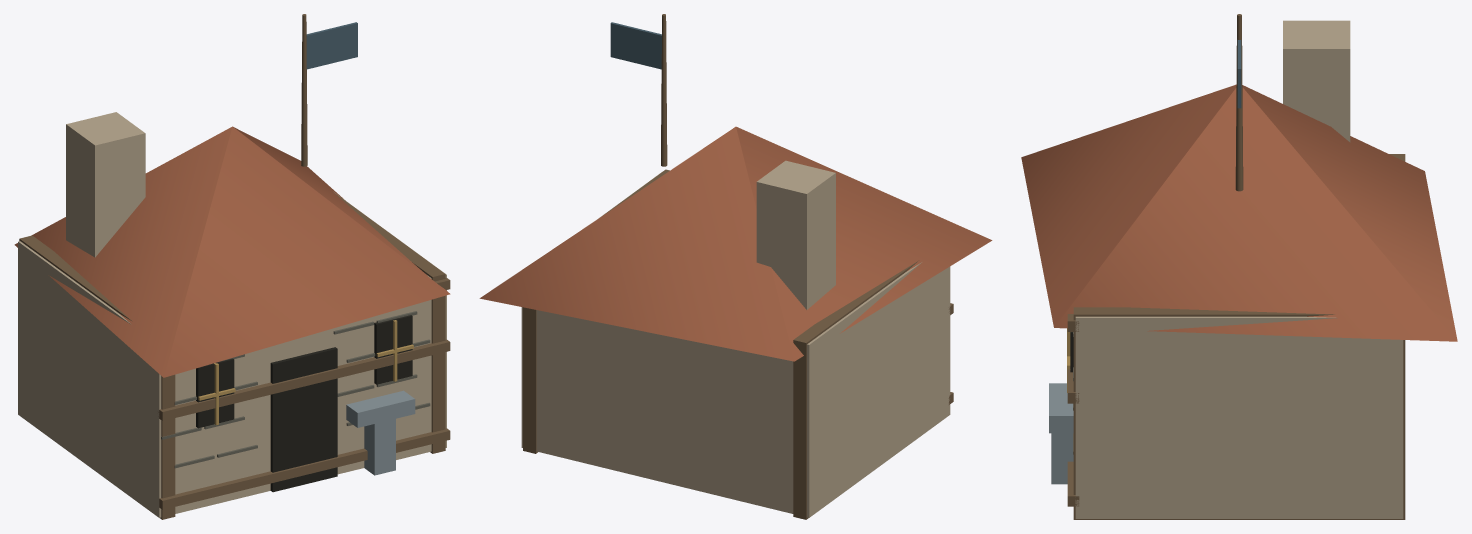
The model's file is b-smithy-castilian.glb.
3 renders of one model, left to right at view 1: azimuth 30°, elevation 25°; view 2: azimuth 150°, elevation 25°; view 3: azimuth 270°, elevation 25°, orthographic. The views are drawn at different scales.
Parts seen in each view (by area): view 1: Structure; view 2: Structure; view 3: Structure.
Boxes of the visible parts, x1,y1,x2,y2 form: Structure: (14, 14, 450, 519); Structure: (479, 14, 992, 519); Structure: (1021, 14, 1457, 519).
Bounding box in the file's own units: 4.53 × 5.33 × 4.53.
